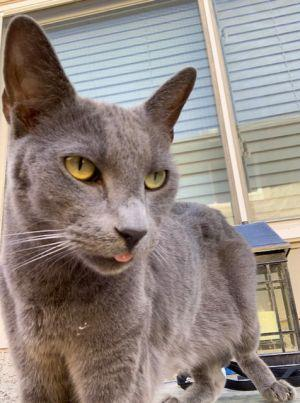rblue: (1, 5, 215, 307)
